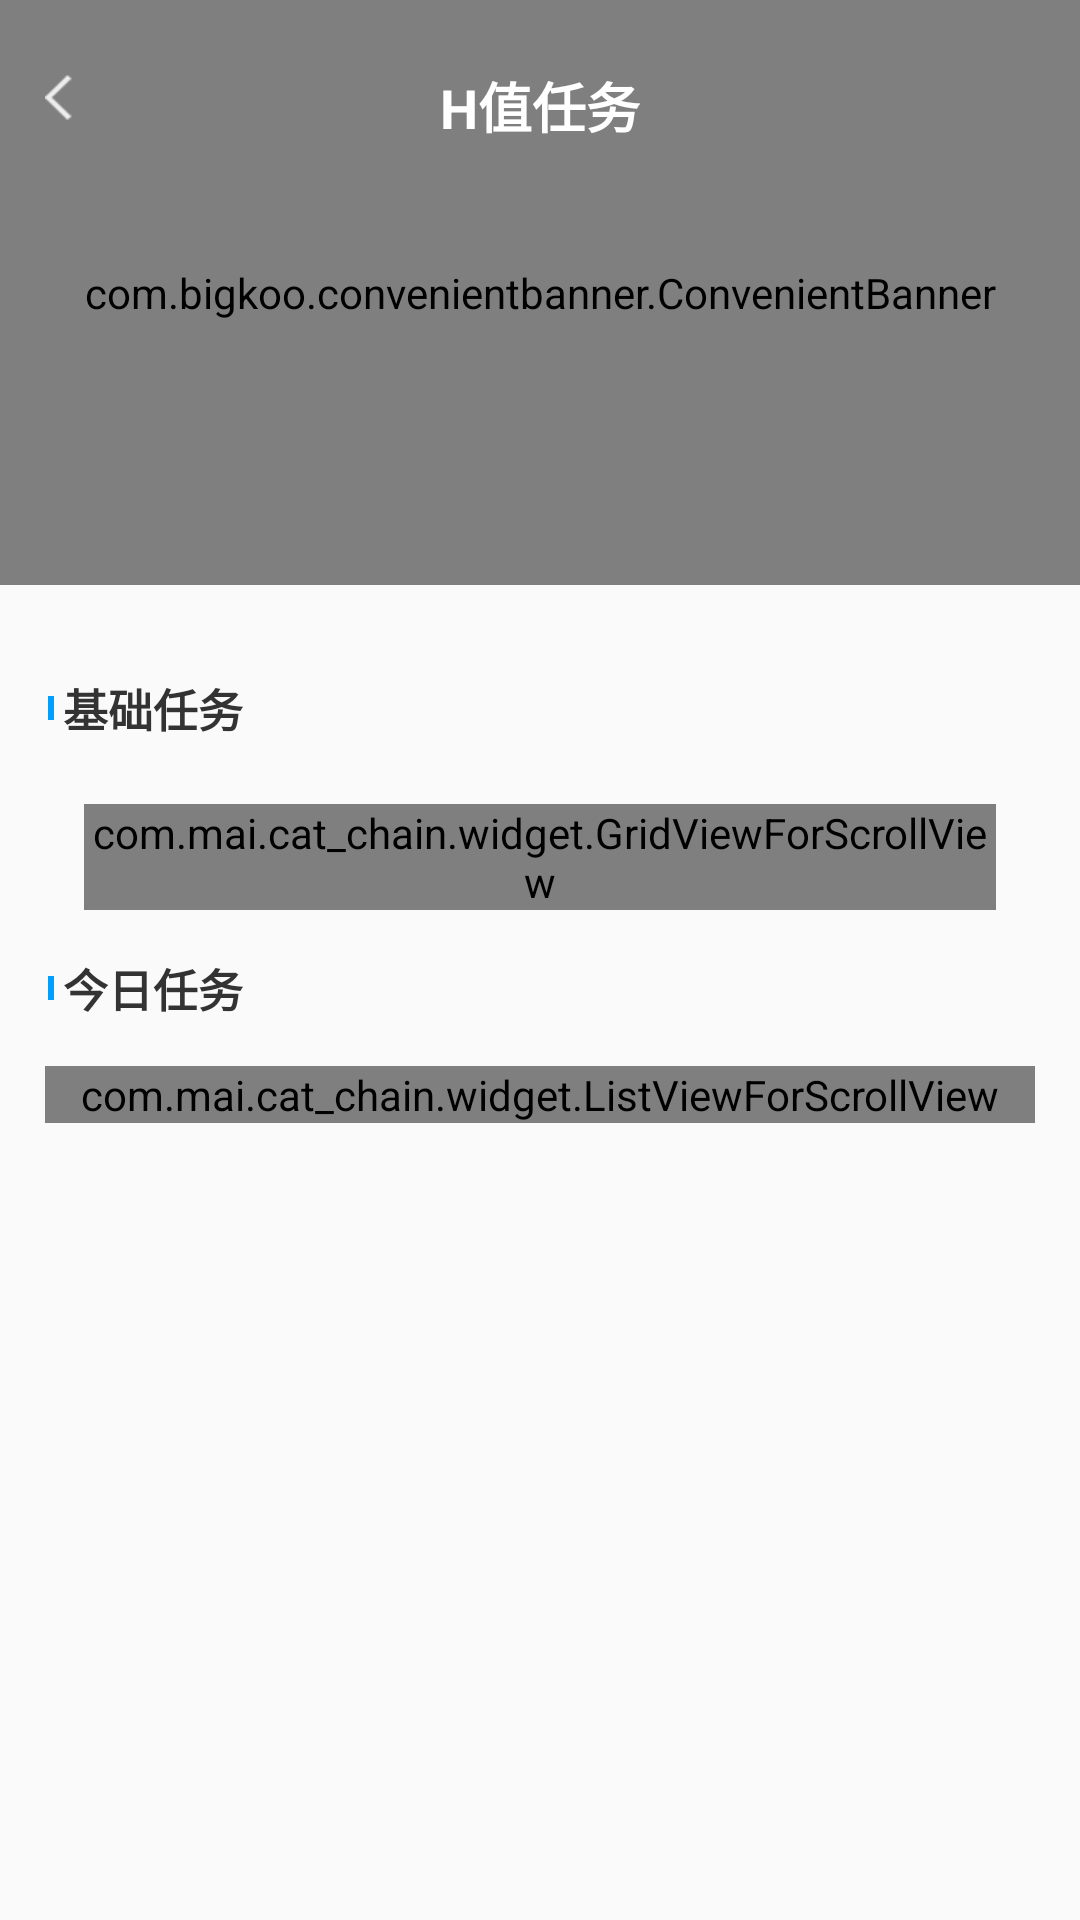

Icon bounding boxes for this 1080*1920 phone screenshot, format (x1, y1, x2, y2):
return: (45, 75, 72, 120)
